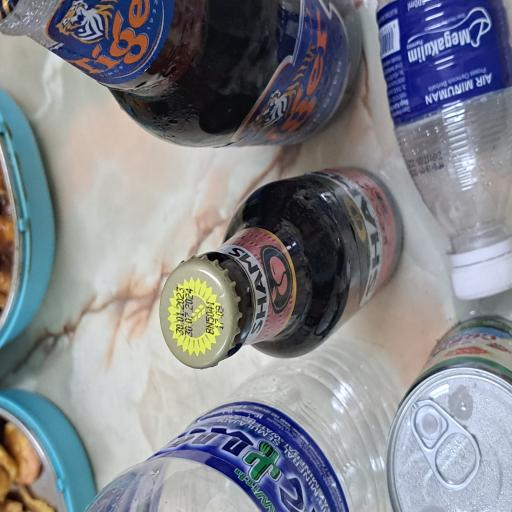glass bottle: (272, 0, 384, 486), (106, 212, 262, 512)
plastic bottle: (0, 118, 129, 512)
